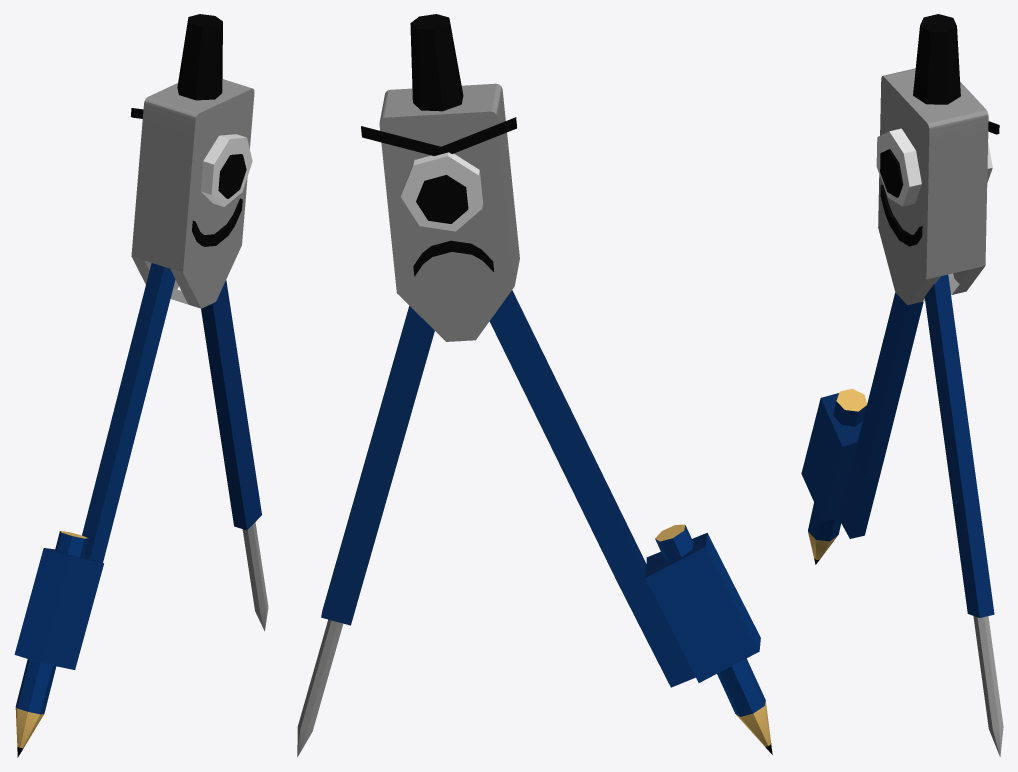
File: konpasukick.fbx
3 views of the same model, side by side, from view 1: azimuth 30°, elevation 25°; view 2: azimuth 150°, elevation 25°; view 3: azimuth 270°, elevation 25° (orthographic). The views are drawn at different scales.
Visible parts, largest first — view 1: pasted__pCube12; view 2: pasted__pCube12; view 3: pasted__pCube12.
Boxes of the visible parts, bbox=[...] form: pasted__pCube12: bbox=[14, 14, 268, 757]; pasted__pCube12: bbox=[297, 14, 772, 757]; pasted__pCube12: bbox=[801, 14, 1003, 756].
Size of the model in its own units: 62.95 by 118 by 31.28.
